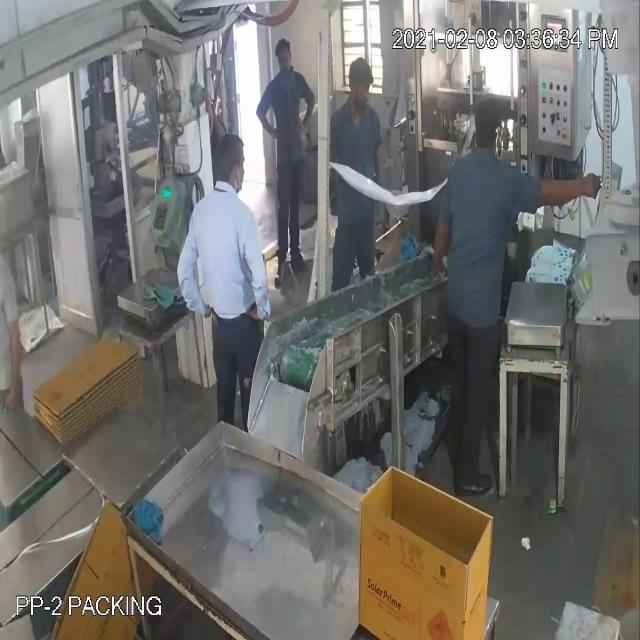No_Gloves: (16, 55, 558, 354)
